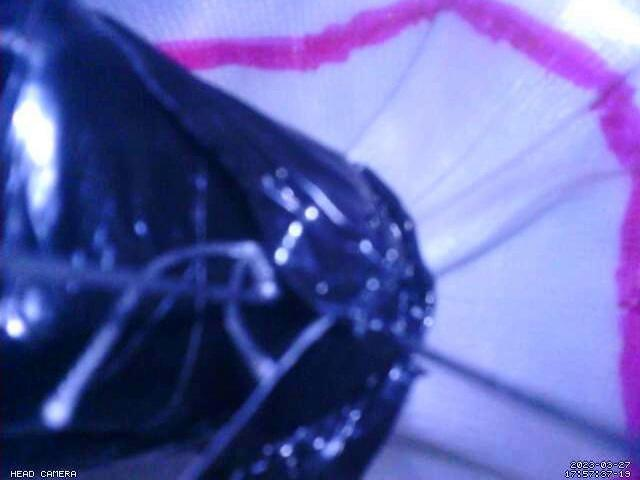red-circle: (154, 0, 640, 480)
